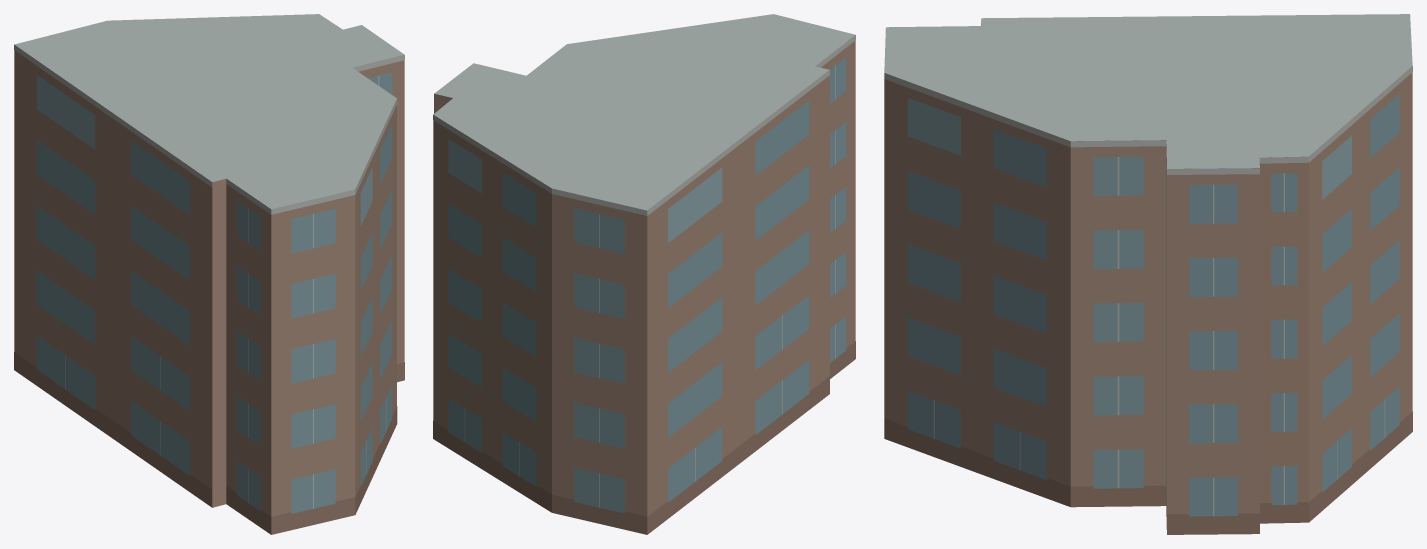
Rendered from survey-upis-32885277.glb.
The picture shows the model from 3 angles, left to right: view 1: azimuth 30°, elevation 25°; view 2: azimuth 150°, elevation 25°; view 3: azimuth 270°, elevation 25°; orthographic projection. The views are drawn at different scales.
Visible parts, largest first — view 1: survey-upis-32885277.tmp; view 2: survey-upis-32885277.tmp; view 3: survey-upis-32885277.tmp.
Boxes of the visible parts, x1,y1,x2,y2 form: survey-upis-32885277.tmp: [14, 14, 404, 534]; survey-upis-32885277.tmp: [433, 14, 855, 534]; survey-upis-32885277.tmp: [884, 14, 1412, 534].
Size of the model in its own units: 13.27 by 14.6 by 19.12.
